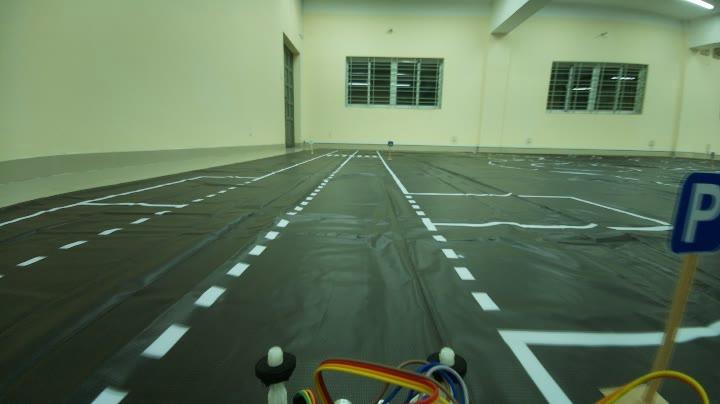parking: (664, 171, 719, 254)
